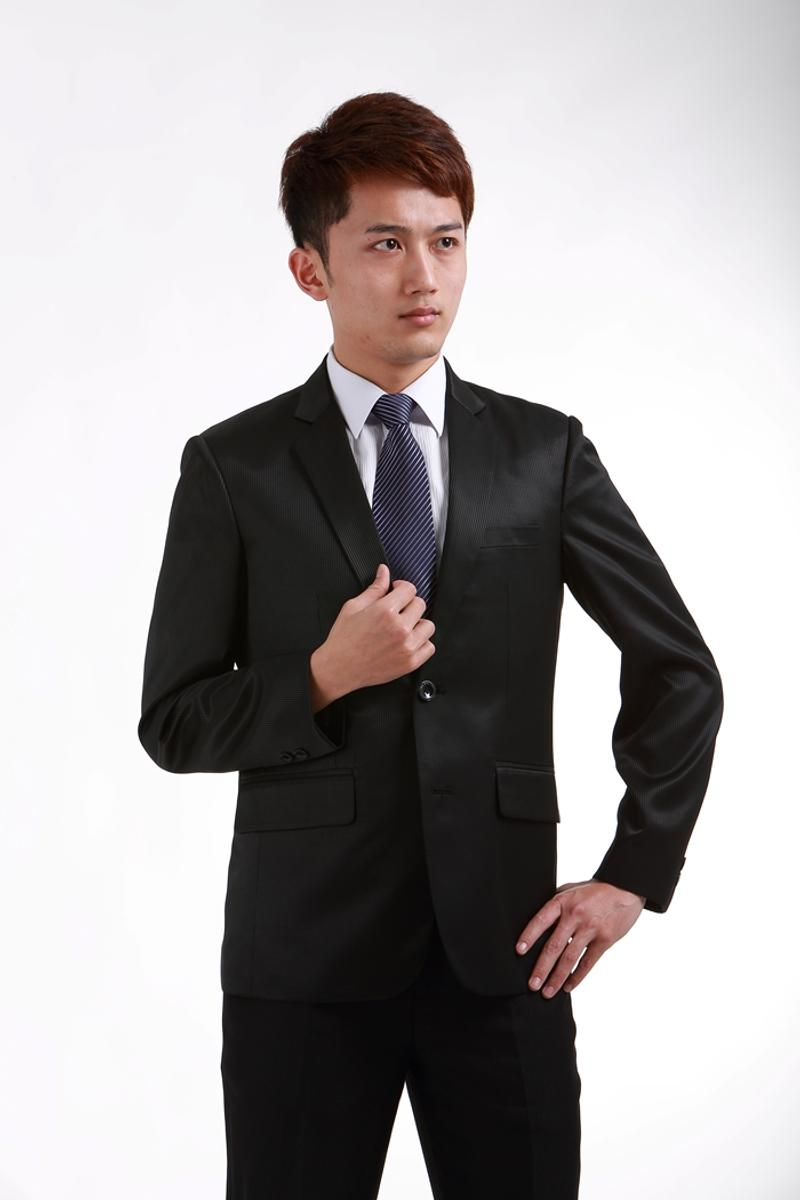F_M_suit jacket: (127, 355, 722, 1005)
F_tie: (363, 396, 445, 607)
